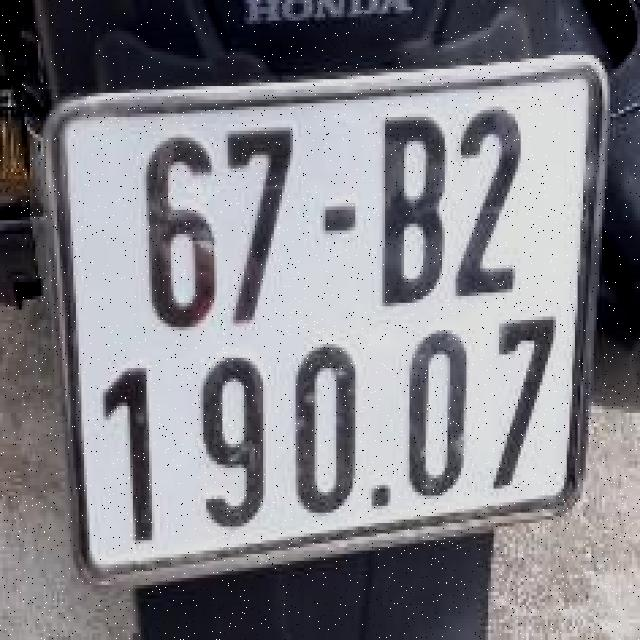0: (286, 328, 365, 518), (403, 320, 473, 502)
1: (92, 342, 174, 560)
2: (448, 81, 534, 308)
6: (136, 126, 222, 336)
7: (214, 107, 298, 337), (494, 303, 562, 516)
9: (188, 334, 280, 540)
B: (363, 107, 453, 313)
